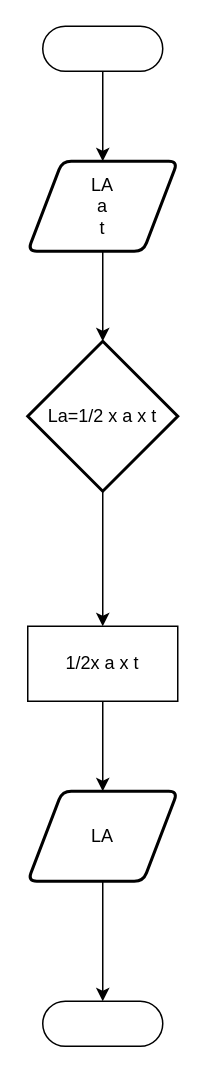
The diagram is 204 pixels wide and 1073 high, and some of its shapes have lost their labels. The shapes that lost their labels are listed below. From the top down, each one's box as (x1, y1, x2, y2) in pixels, then its label:
(41, 25, 163, 71): START
(41, 1000, 163, 1046): END
